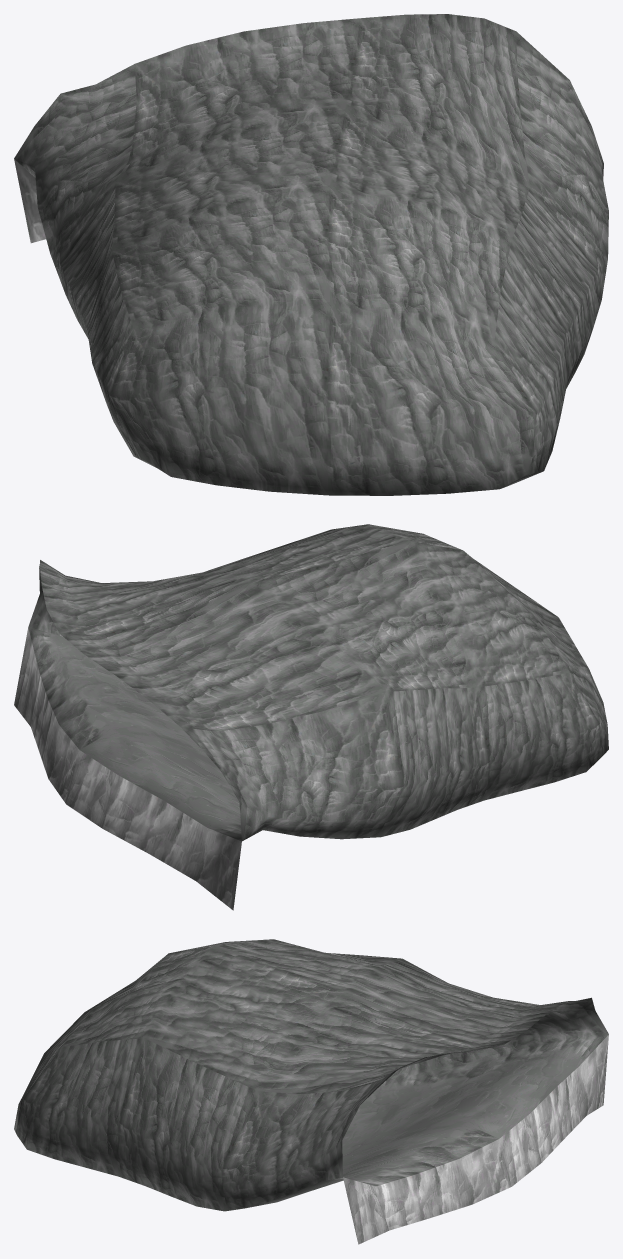
The model's file is SWORDLIGHT20_PS-AREA03_12.fbx.
3 renders of one model, top to bottom at view 1: azimuth 30°, elevation 25°; view 2: azimuth 150°, elevation 25°; view 3: azimuth 270°, elevation 25°, orthographic. The views are drawn at different scales.
Parts seen in each view (by area): view 1: SWORDLIGHT20_PS-AREA03_12; view 2: SWORDLIGHT20_PS-AREA03_12; view 3: SWORDLIGHT20_PS-AREA03_12.
Boxes of the visible parts, x1=… form: SWORDLIGHT20_PS-AREA03_12: x1=14, y1=14, x2=608, y2=495; SWORDLIGHT20_PS-AREA03_12: x1=14, y1=524, x2=608, y2=910; SWORDLIGHT20_PS-AREA03_12: x1=14, y1=939, x2=608, y2=1244.
Bounding box in the file's own units: 171064 × 64242 × 195933.
Materials: 6 (6 with a texture image).
